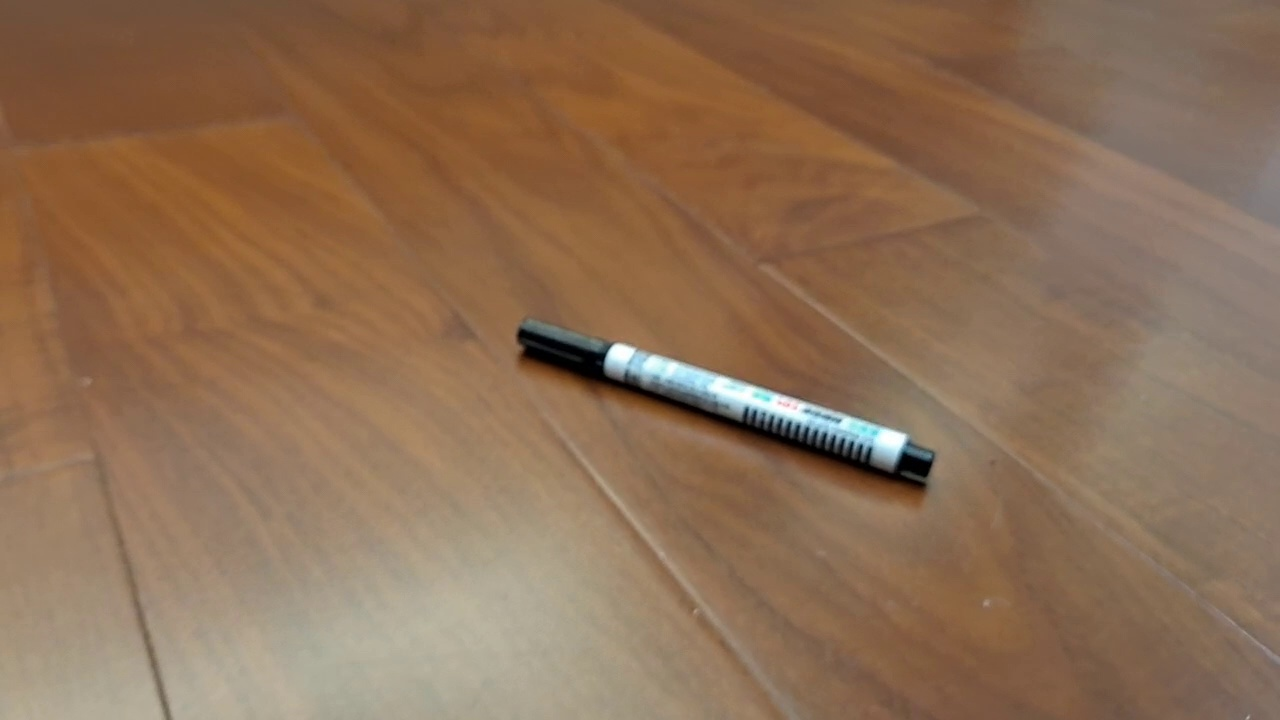pen: (515, 316, 937, 479)
